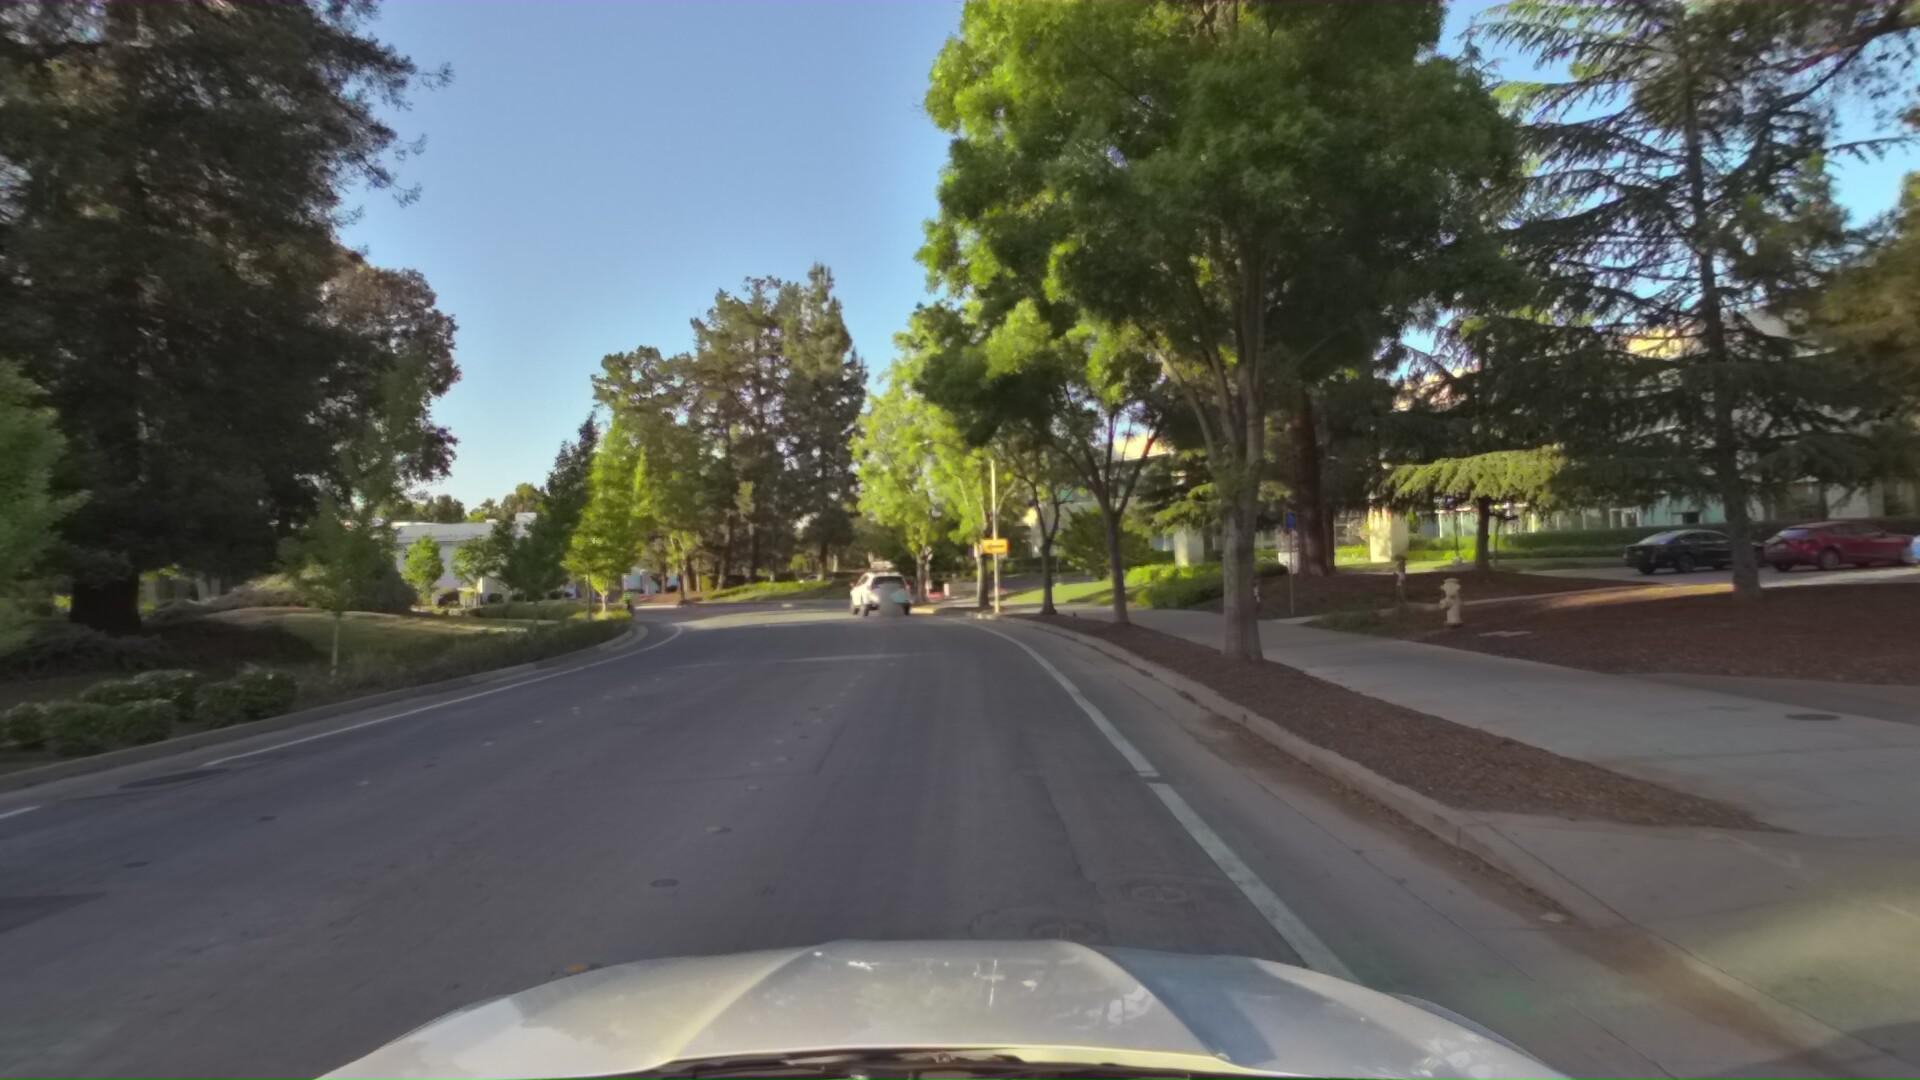bicycle: (615, 587, 638, 625), (425, 591, 450, 618)
car: (837, 568, 913, 620)
